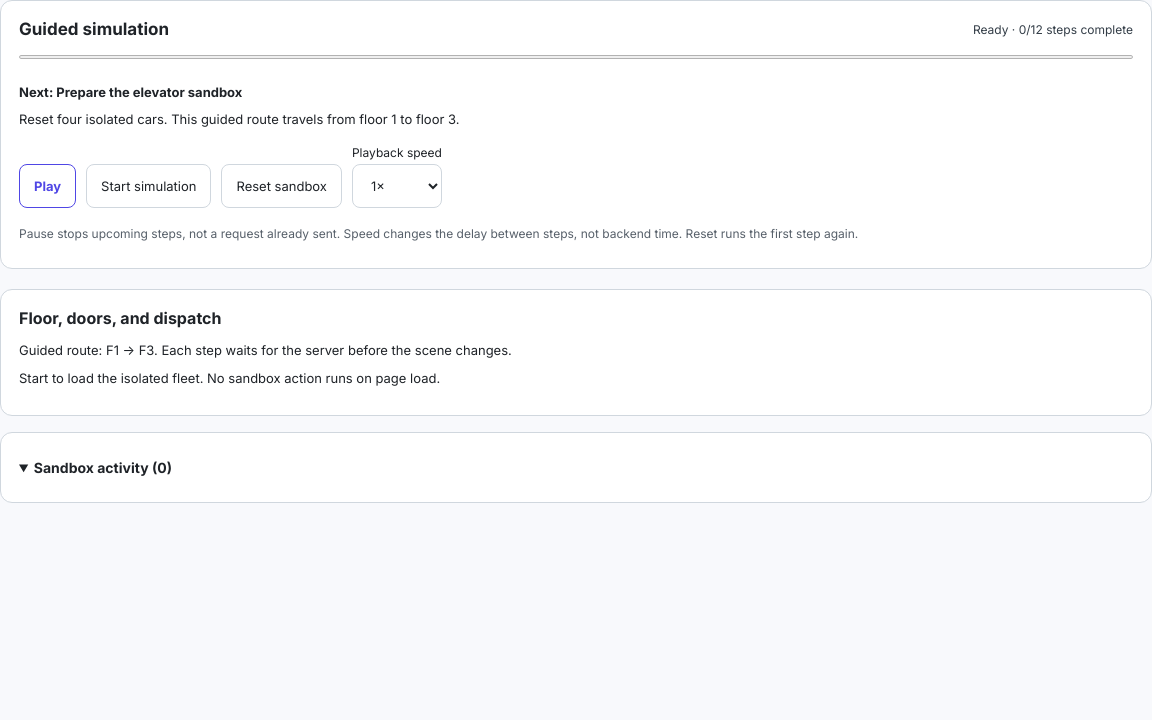
Scenario: Fleet simulation walkthroughs › does not reuse a stale elevator assignment when a new request is queued
The image size is (1152, 720).
Click the button "Start simulation": x=149, y=186 [86,164,212,208]
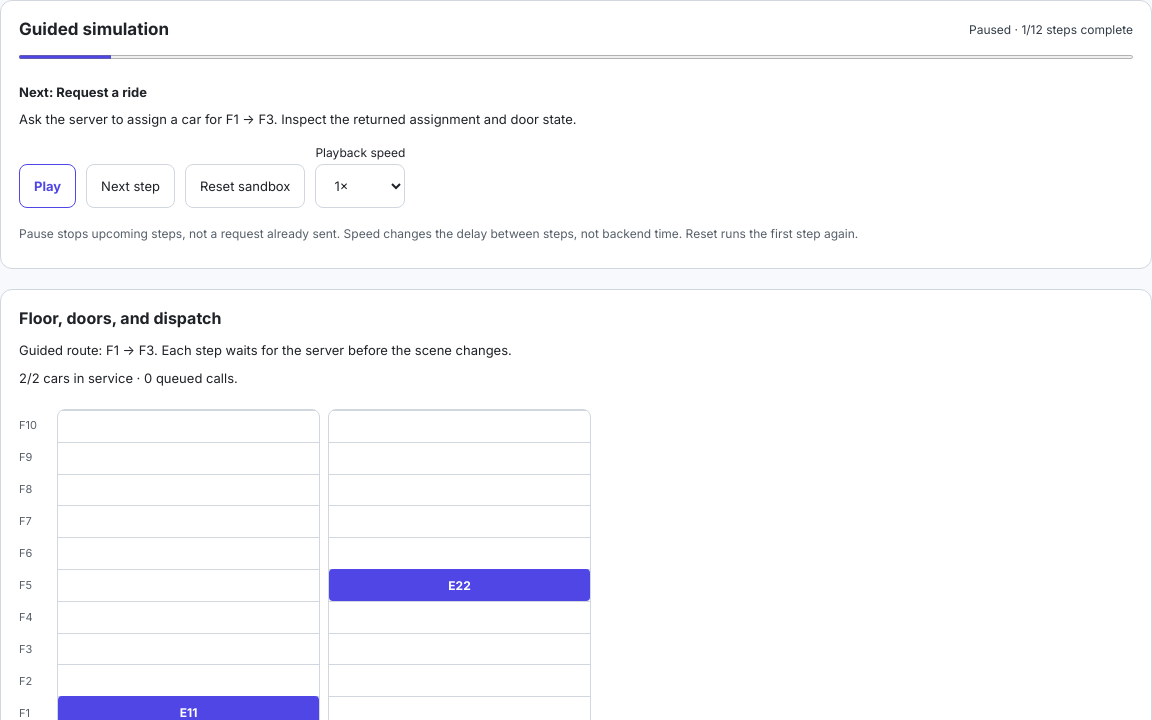
Expected: the progress indicator holds "1", [19,53,1133,61]
Click the button "Next step": x=131, y=186 [86,164,175,208]
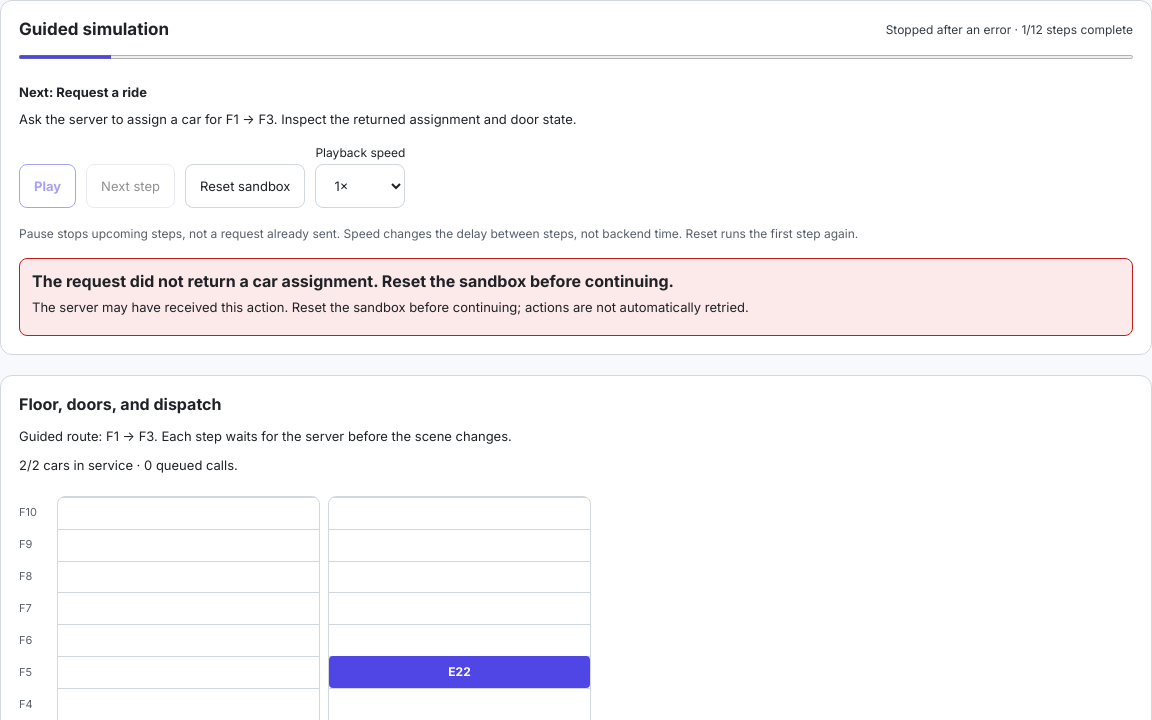
Expected: the 2nd message shows "did not return a car assignment", [32,271,674,291]
